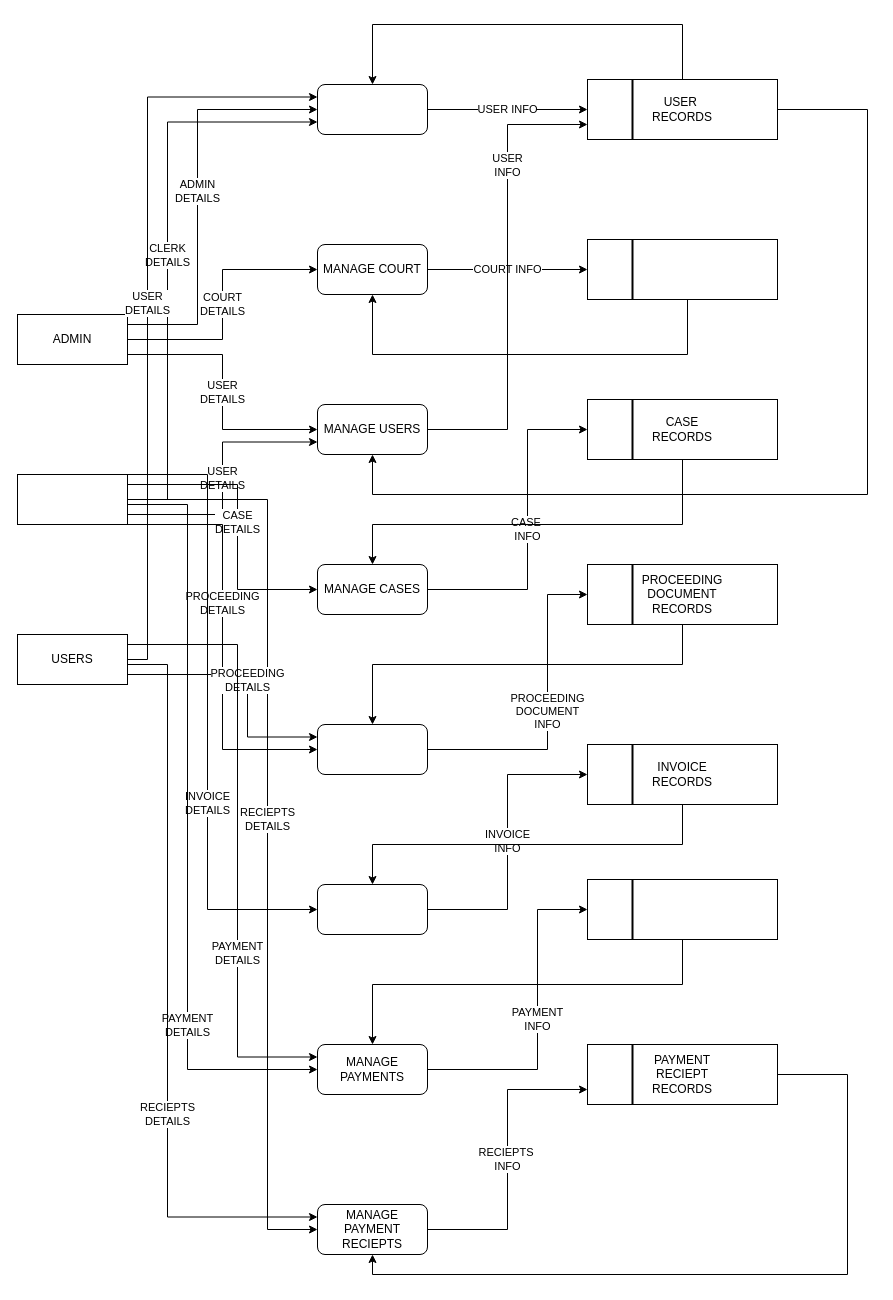
This 893x1300 diagram has some shape labels left out. Here are the shapes that lost their labels. From the top down, the centre of each, then its label:
At point 372,109: "LOGIN".
At point 682,269: "COURT RECORDS".
At point 72,499: "CLERK".
At point 372,749: "MANAGE PROCEEDINGS".
At point 372,909: "MANAGE INVOICES".
At point 682,909: "PAYMENT RECORDS".
